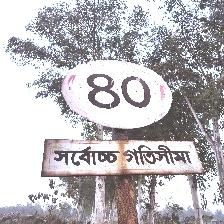Speed-limit: (41, 58, 203, 176)
